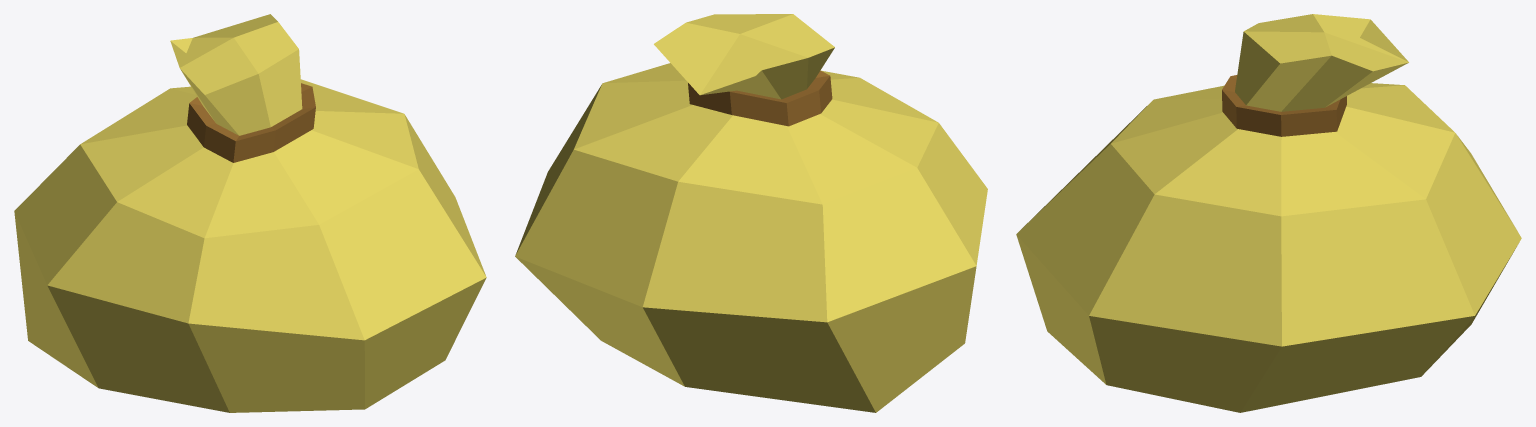
The model's file is sack.fbx.
The picture shows the model from 3 angles, left to right: view 1: azimuth 30°, elevation 25°; view 2: azimuth 150°, elevation 25°; view 3: azimuth 270°, elevation 25°; orthographic projection. The views are drawn at different scales.
Parts seen in each view (by area): view 1: misc09; view 2: misc09; view 3: misc09.
Boxes of the visible parts, left/top/right/bottom form: misc09: left=14, top=14, right=486, bottom=412; misc09: left=515, top=14, right=987, bottom=412; misc09: left=1016, top=14, right=1521, bottom=412.
Bounding box in the file's own units: 89.11 × 61.05 × 89.31.
